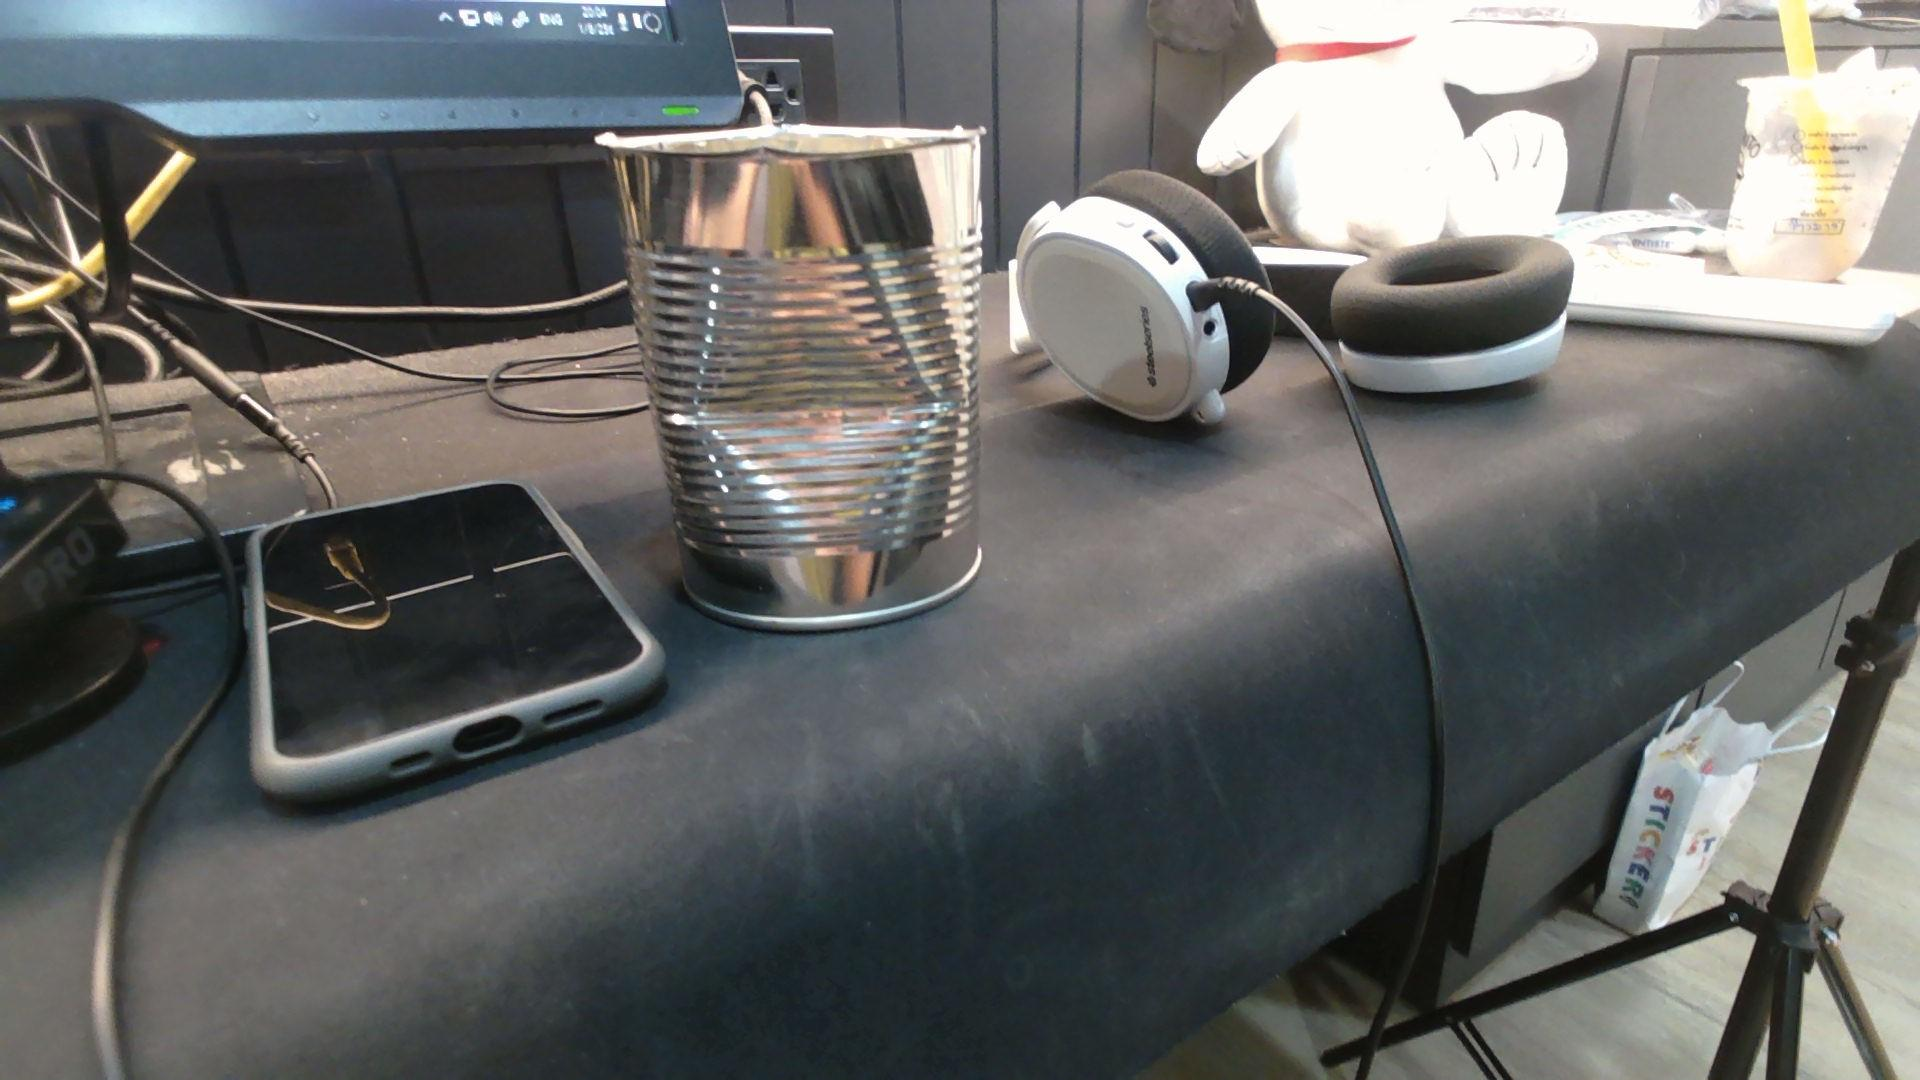metal: (600, 127, 980, 632)
